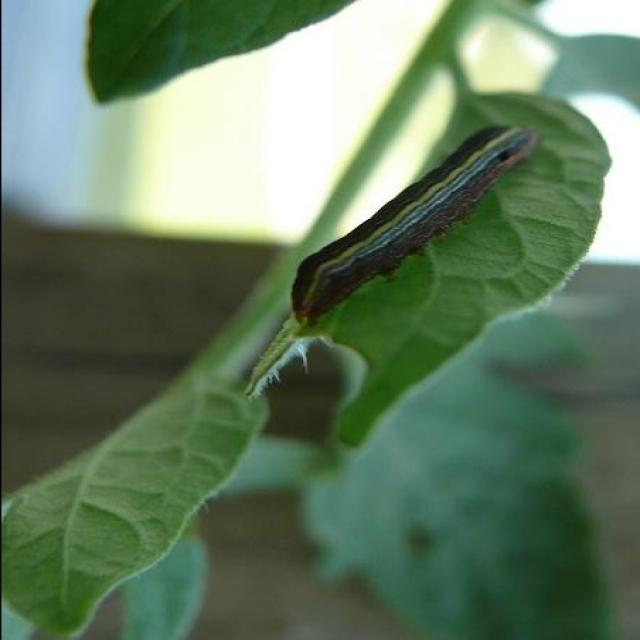army worm: (287, 121, 546, 339)
